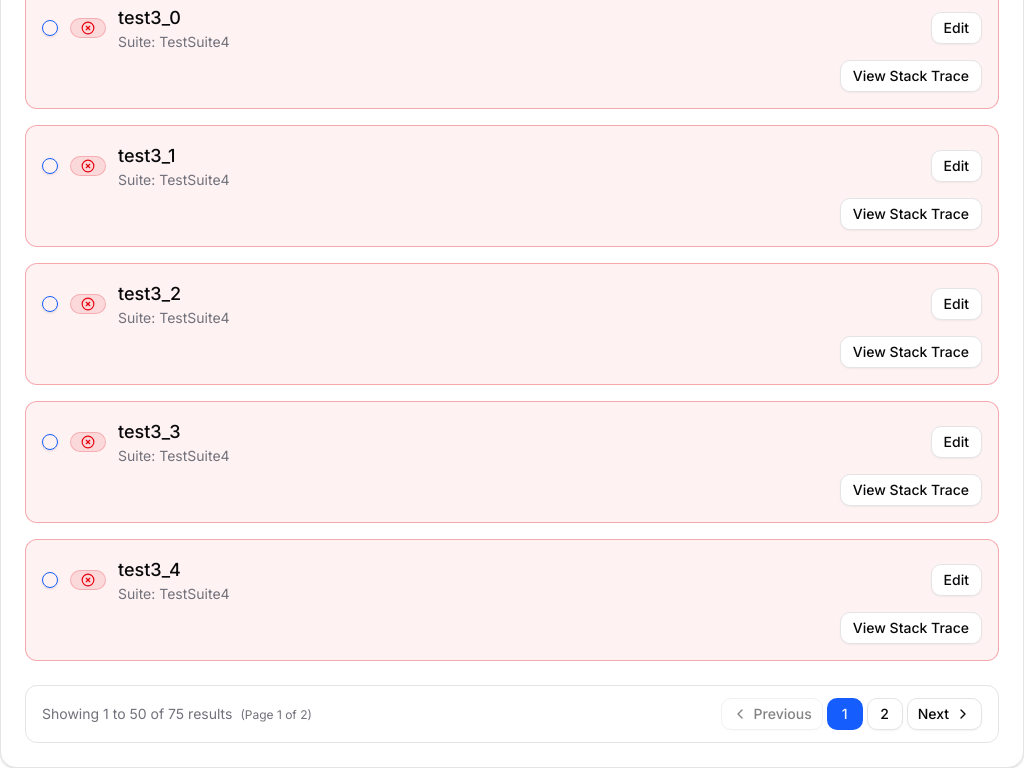
Scenario: FailureAnalysisProgress › Pagination › should navigate to next page when Next button is clicked
(page scrolled)
Click the button "Next" at [944, 714], box [907,698,982,730]
(page scrolled)
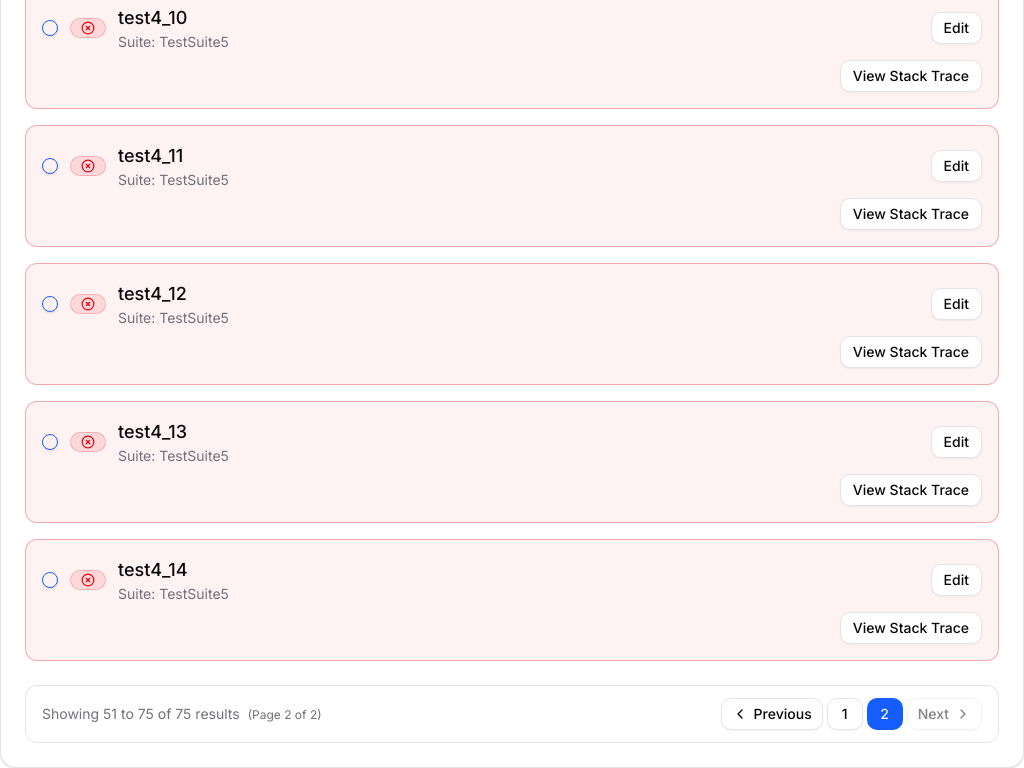
Expected: the text "Showing 51 to 75 of 75 results" is shown, [42,704,322,724]
